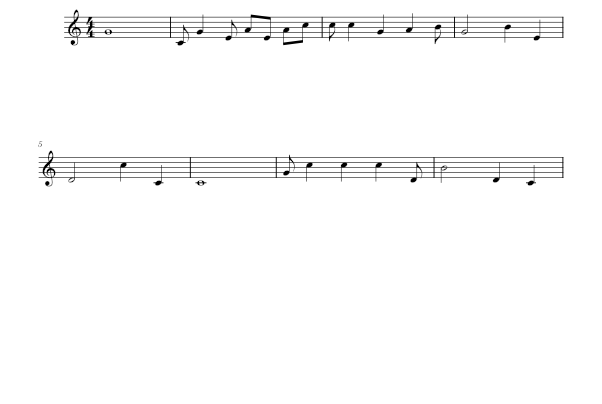Treble Clef: (64, 6, 83, 50), (40, 148, 59, 190)
